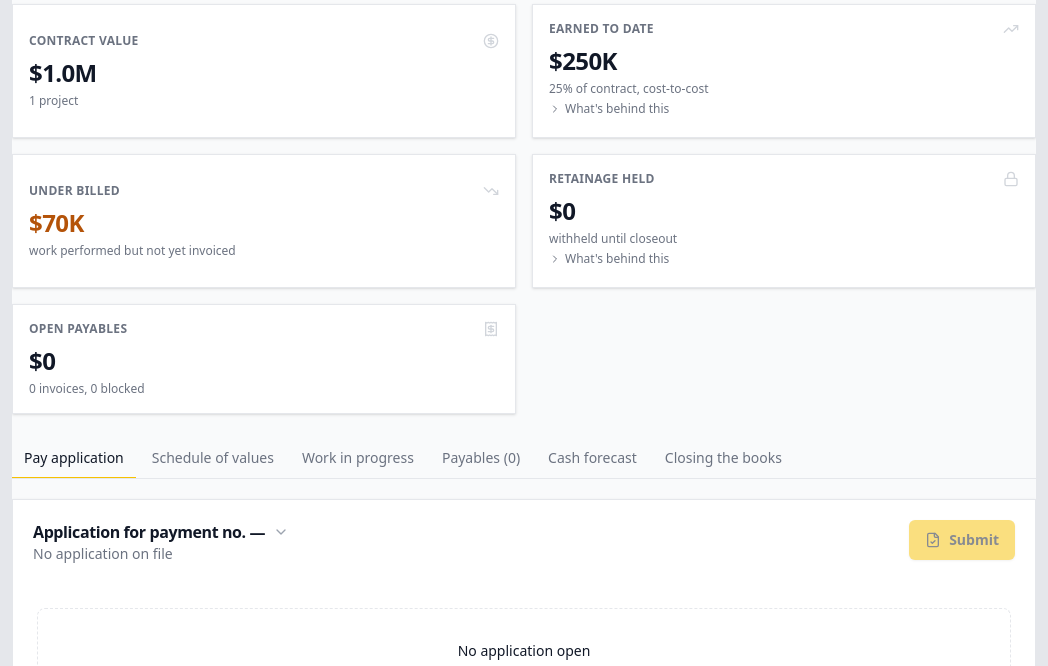
Test: the finance page › reports money with no date instead of assigning it a month
This screenshot has width=1048, height=666.
Click the tab "Cash forecast": (592, 458) [536, 438, 649, 478]
(page scrolled)
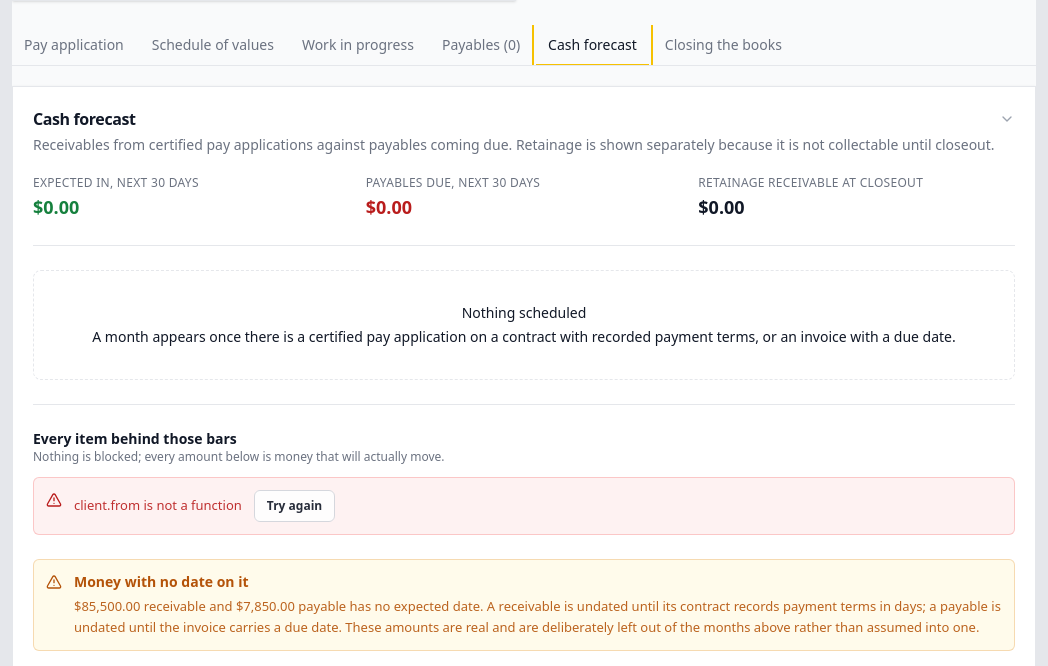
Expected: the text "Money with no date on it" is shown, [74, 572, 248, 591]
Expected: the text "Nothing scheduled" is shown, [462, 303, 586, 322]
